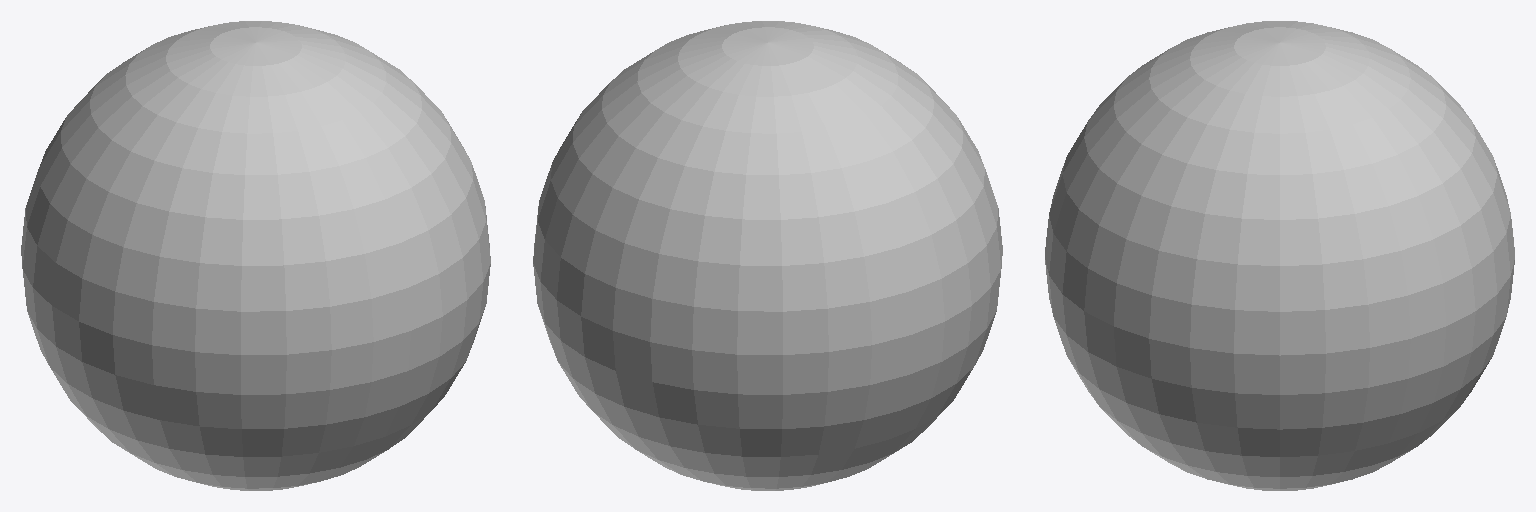
File: fluidTankSphere.obj
3 views of the same model, side by side, from view 1: azimuth 30°, elevation 25°; view 2: azimuth 150°, elevation 25°; view 3: azimuth 270°, elevation 25° (orthographic).
Visible parts, largest first — view 1: Sphere; view 2: Sphere; view 3: Sphere.
Part boxes in pixels (left/top/right/bottom): Sphere: left=21, top=21, right=490, bottom=490; Sphere: left=533, top=21, right=1002, bottom=490; Sphere: left=1045, top=21, right=1514, bottom=490.
Bounding box in the file's own units: 0.6 × 0.6 × 0.6.